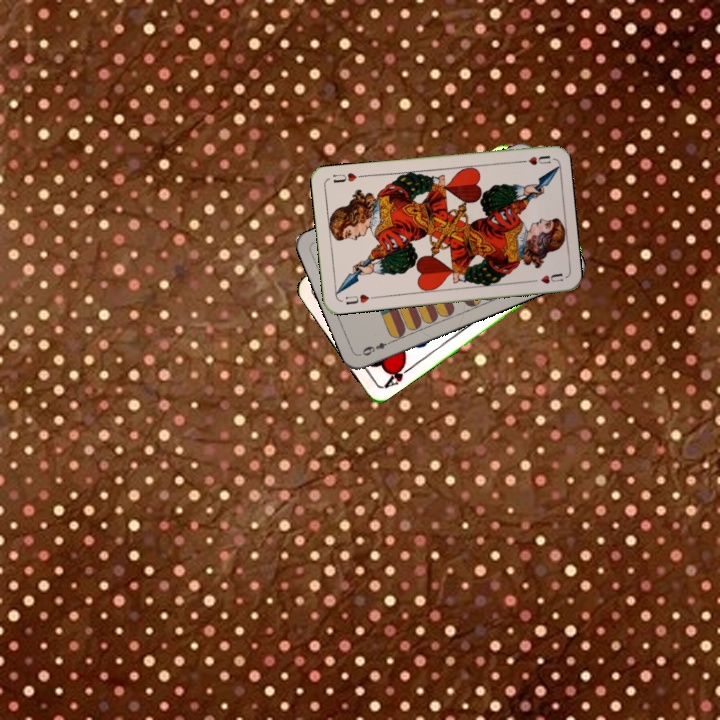E9: (358, 336, 395, 358)
HA: (379, 358, 415, 391)
HU: (513, 151, 553, 167), (341, 290, 371, 307)
